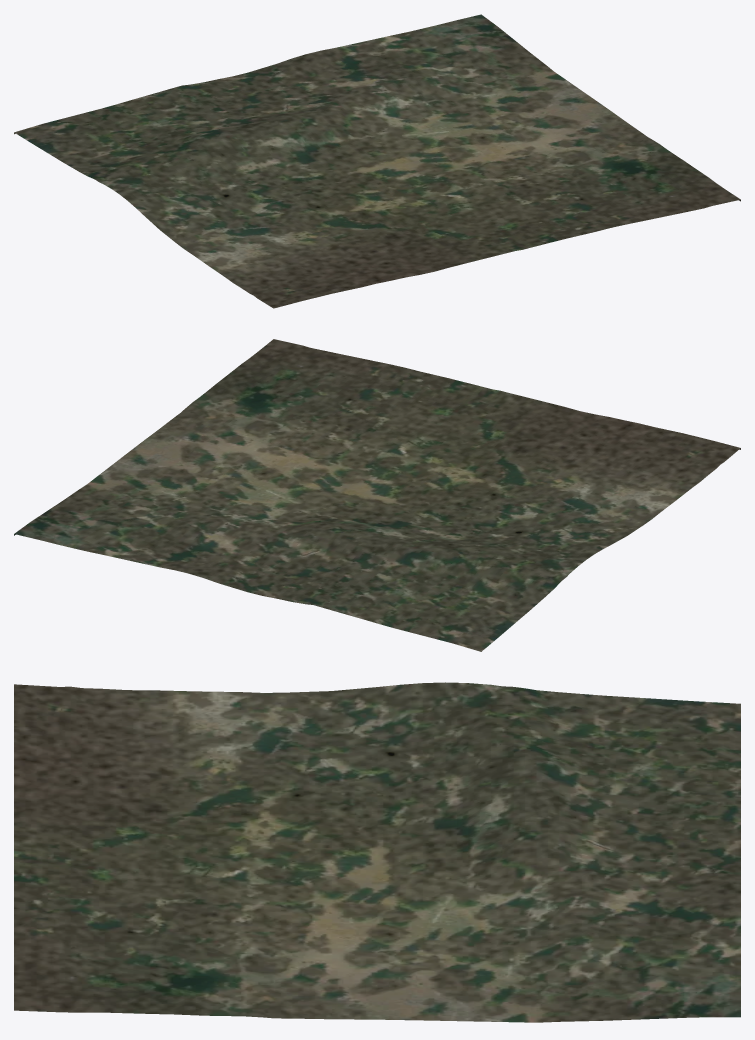
3 views of the same model, one above another, from view 1: azimuth 30°, elevation 25°; view 2: azimuth 150°, elevation 25°; view 3: azimuth 270°, elevation 25° (orthographic). The views are drawn at different scales.
Size of the model in its own units: 250 by 9.61 by 241.
Materials: 1 (1 with a texture image).
